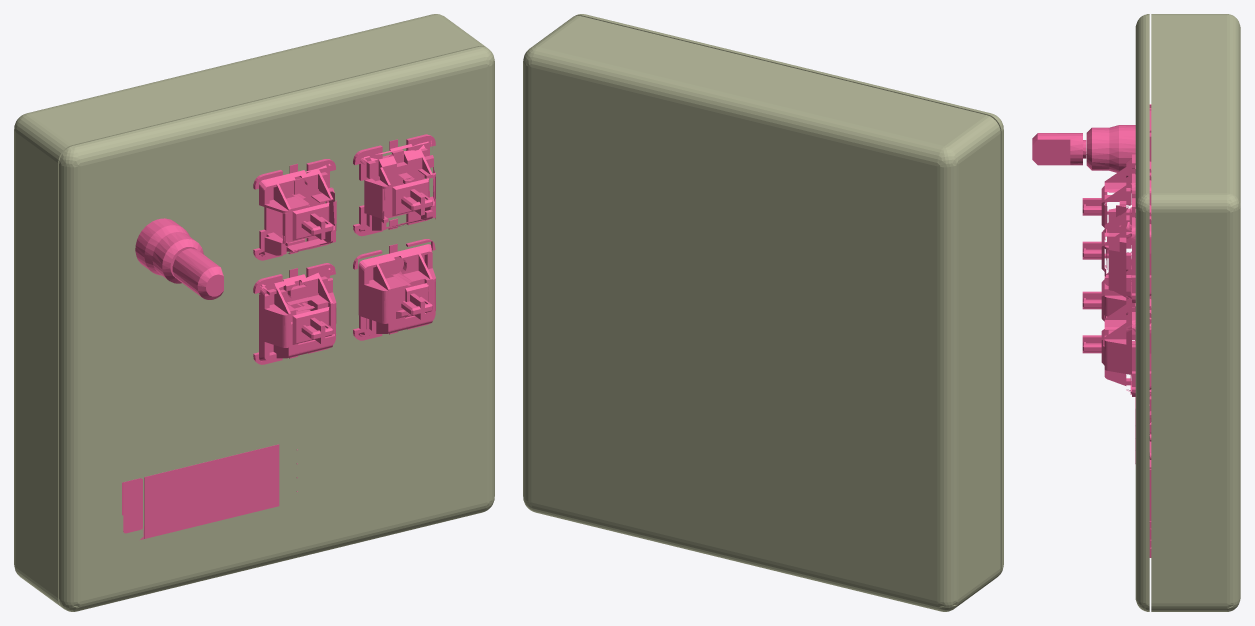
Rendered from tinker.obj.
3 views of the same model, side by side, from view 1: azimuth 30°, elevation 25°; view 2: azimuth 150°, elevation 25°; view 3: azimuth 270°, elevation 25° (orthographic). The views are drawn at different scales.
Parts seen in each view (by area): view 1: obj_0, obj_1; view 2: obj_0; view 3: obj_0, obj_1.
Part boxes in pixels (<box>): obj_0: <box>14,14,494,611</box>; obj_1: <box>122,134,435,539</box>; obj_0: <box>523,14,1003,611</box>; obj_0: <box>1135,14,1240,611</box>; obj_1: <box>1032,104,1151,557</box>.
Bounding box in the file's own units: 83 × 85 × 38.45.
